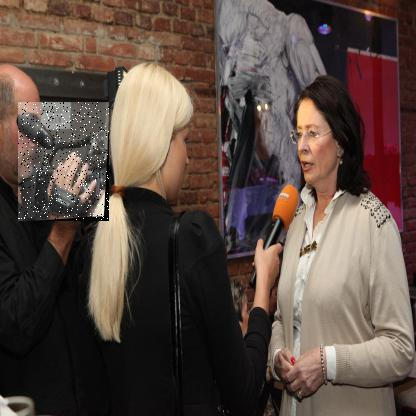Camera: (19, 103, 111, 223)
